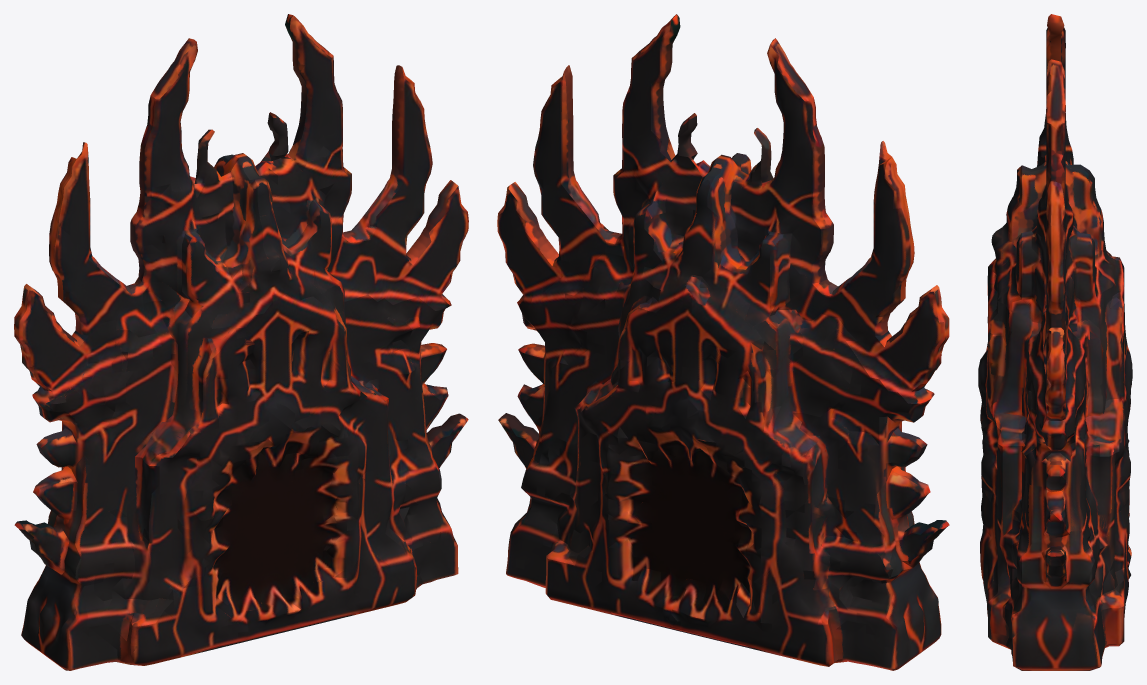
Rendered from HeavyWorkshop.glb.
The picture shows the model from 3 angles, left to right: view 1: azimuth 30°, elevation 25°; view 2: azimuth 150°, elevation 25°; view 3: azimuth 270°, elevation 25°; orthographic projection. The views are drawn at different scales.
Parts seen in each view (by area): view 1: tmpa50lp9p4.ply; view 2: tmpa50lp9p4.ply; view 3: tmpa50lp9p4.ply.
Boxes of the visible parts, x1,y1,x2,y2 form: tmpa50lp9p4.ply: [14, 14, 468, 670]; tmpa50lp9p4.ply: [497, 14, 949, 670]; tmpa50lp9p4.ply: [978, 14, 1132, 670].
Bounding box in the file's own units: 1.55 × 1.92 × 0.493.
Materials: 1 (1 with a texture image).
